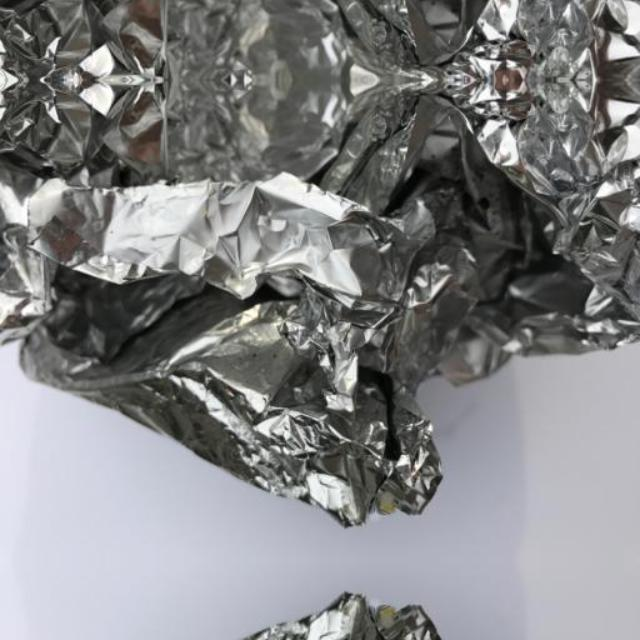Metal: (0, 80, 638, 524), (0, 0, 638, 80), (0, 596, 638, 640)
